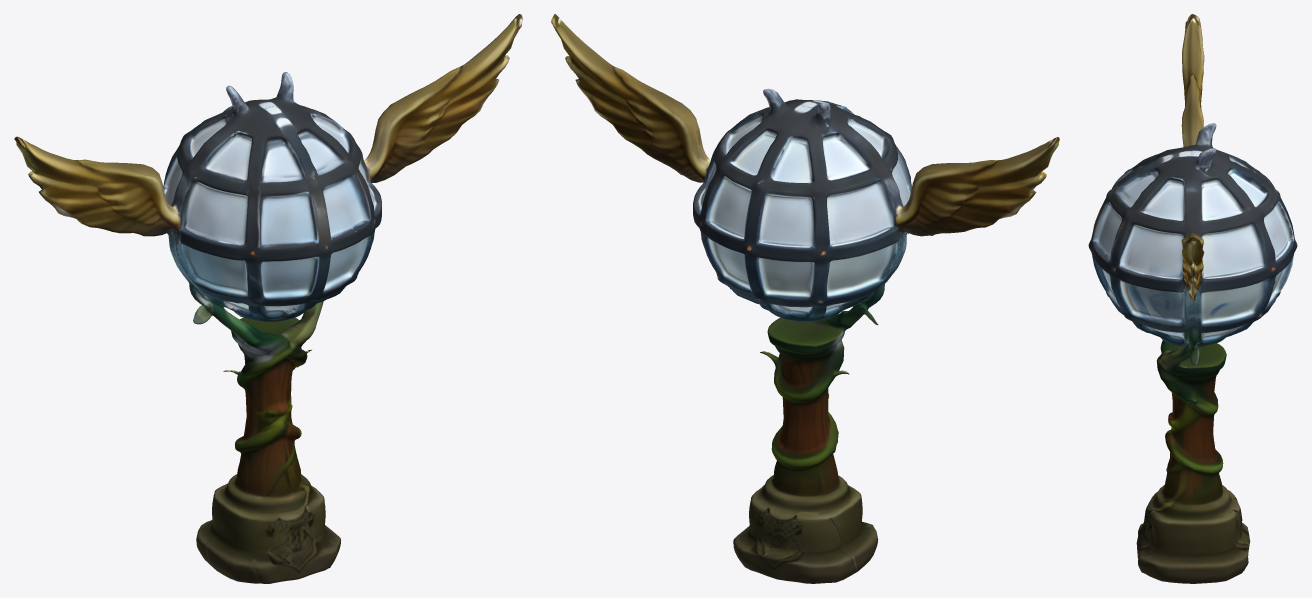
Rendered from lod_basic_pbr.fbx.
3 views of the same model, side by side, from view 1: azimuth 30°, elevation 25°; view 2: azimuth 150°, elevation 25°; view 3: azimuth 270°, elevation 25° (orthographic). The views are drawn at different scales.
Visible parts, largest first — view 1: model_LOD0; view 2: model_LOD0; view 3: model_LOD0.
Part boxes in pixels (bbox=[...]): model_LOD0: bbox=[14, 14, 522, 583]; model_LOD0: bbox=[551, 14, 1059, 583]; model_LOD0: bbox=[1088, 14, 1297, 583].
Size of what is drawn, in the model's own units: 189 by 174 by 75.03.
1 material, 1 textured.
